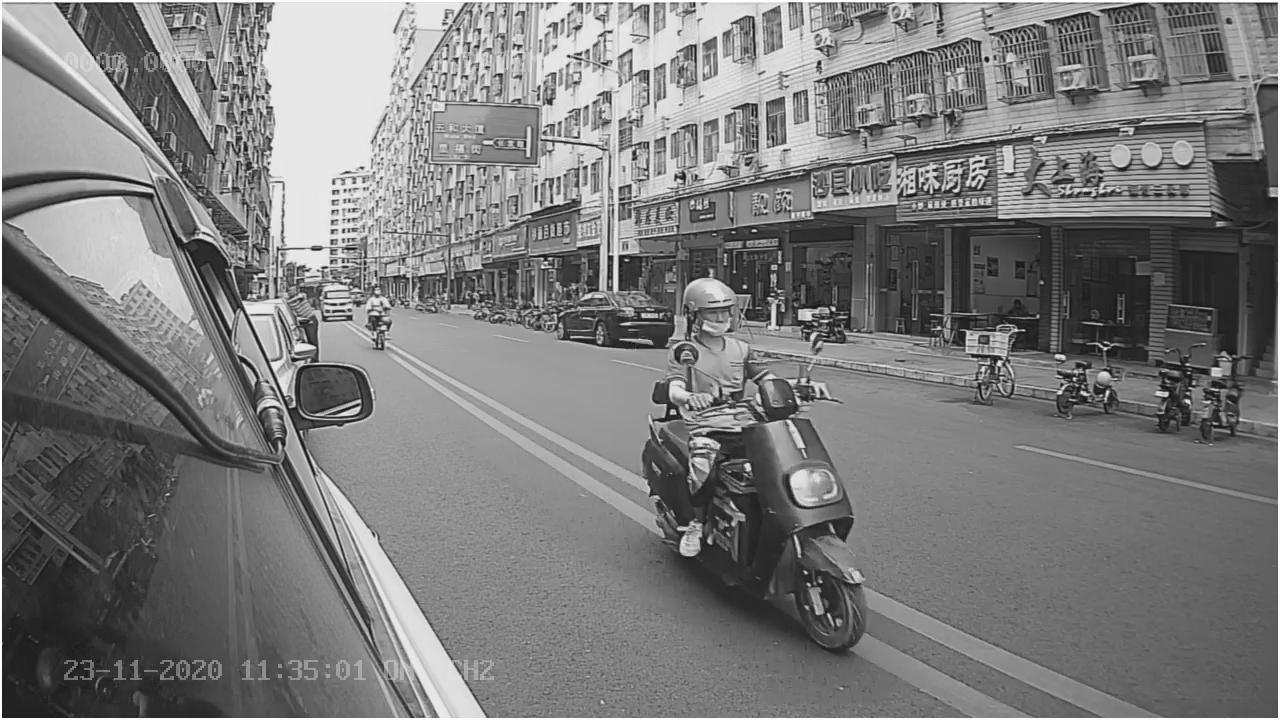person: (667, 279, 797, 412)
